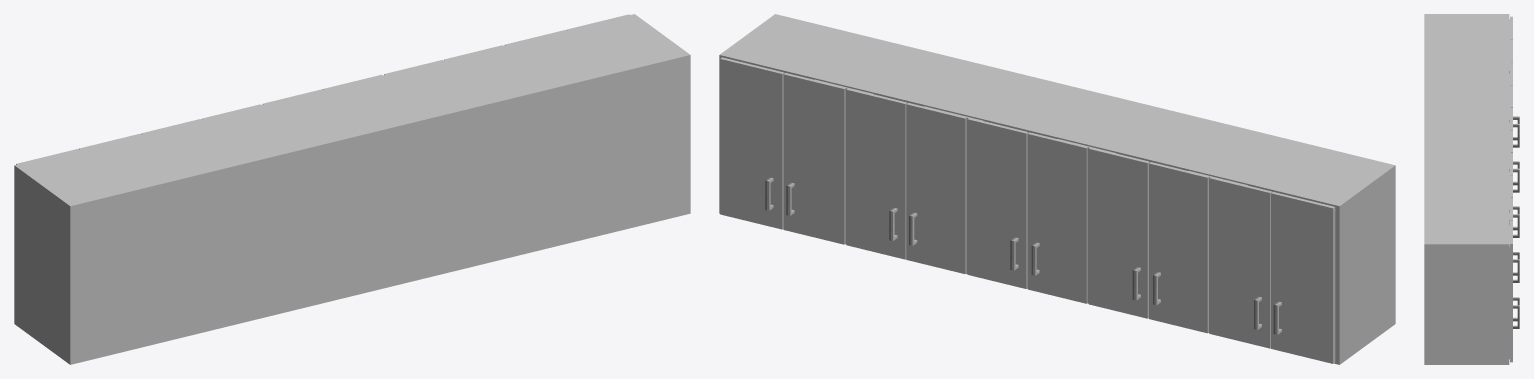
File: Lab_Cabinet,Evelyn_Ludicke2.fbx
The picture shows the model from 3 angles, left to right: view 1: azimuth 30°, elevation 25°; view 2: azimuth 150°, elevation 25°; view 3: azimuth 270°, elevation 25°; orthographic projection. The views are drawn at different scales.
Parts seen in each view (by area): view 1: pCube32; view 2: pCube32, pCube74, pCube92, pCube84, pCube91, pCube89, pCube88, pCube86, pCube90, pCube85, pCube87; view 3: pCube32, pCube74, pCube93, pCube98, pCube82, pCube95, pCube96, pCube101.
Boxes of the visible parts, bbox=[...] form: pCube32: bbox=[14, 14, 690, 364]; pCube32: bbox=[719, 14, 1395, 364]; pCube74: bbox=[720, 57, 784, 229]; pCube92: bbox=[1271, 192, 1335, 363]; pCube84: bbox=[783, 73, 845, 244]; pCube91: bbox=[1209, 176, 1271, 348]; pCube89: bbox=[1027, 132, 1087, 303]; pCube88: bbox=[967, 118, 1028, 288]; pCube86: bbox=[846, 88, 907, 259]; pCube90: bbox=[1088, 147, 1149, 318]; pCube85: bbox=[906, 103, 966, 273]; pCube87: bbox=[1149, 162, 1209, 333]; pCube32: bbox=[1424, 14, 1509, 364]; pCube74: bbox=[1510, 221, 1512, 362]; pCube93: bbox=[1509, 19, 1509, 359]; pCube98: bbox=[1513, 168, 1519, 192]; pCube82: bbox=[1513, 305, 1519, 328]; pCube95: bbox=[1513, 259, 1519, 282]; pCube96: bbox=[1513, 214, 1519, 237]; pCube101: bbox=[1513, 124, 1519, 147].
Size of the model in its own units: 10.02 by 2.45 by 1.76.
